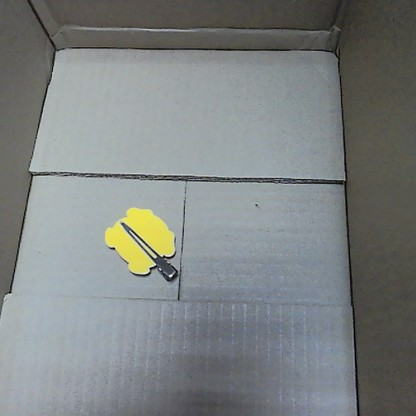dogclip: (101, 201, 180, 282)
